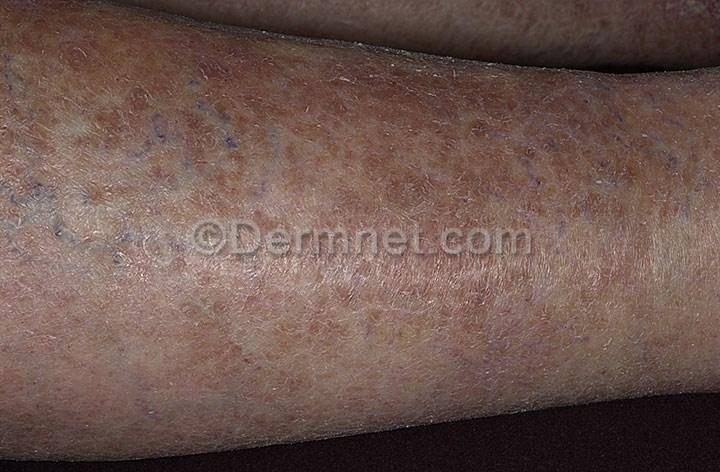Eczema: (0, 0, 720, 389), (0, 393, 606, 469)
